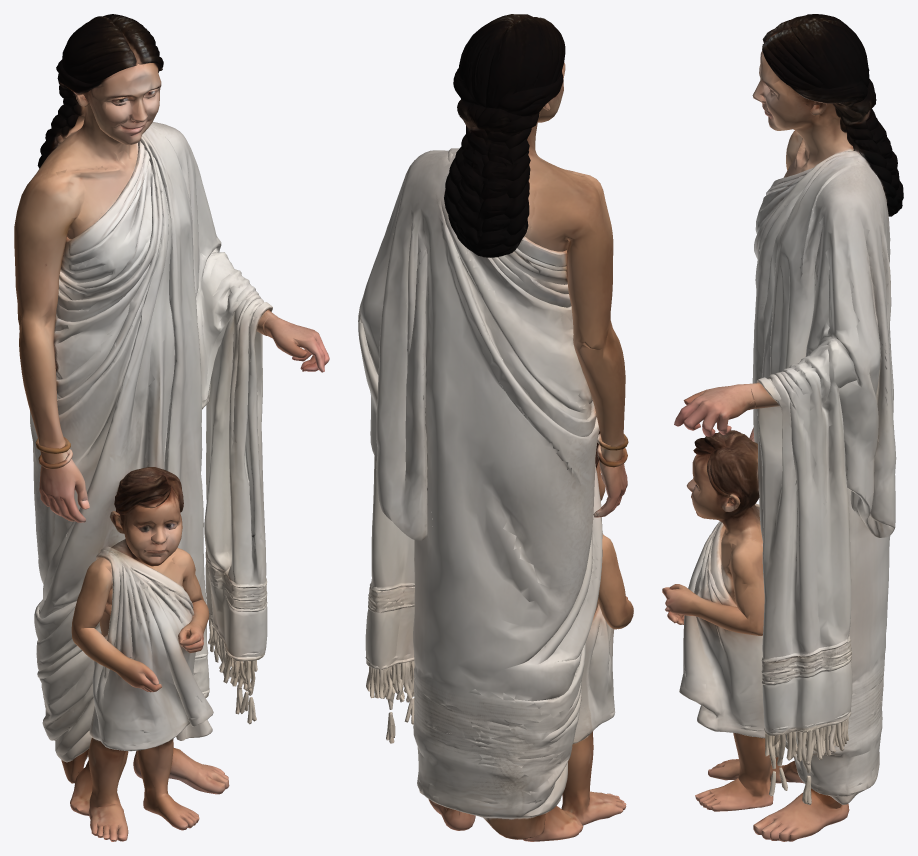
File: crowd_pregnant_woman_with_child_rodin_source.glb
3 renders of one model, left to right at view 1: azimuth 30°, elevation 25°; view 2: azimuth 150°, elevation 25°; view 3: azimuth 270°, elevation 25°, orthographic. The views are drawn at different scales.
Parts seen in each view (by area): view 1: model; view 2: model; view 3: model.
Boxes of the visible parts, x1,y1,x2,y2 form: model: (14, 14, 329, 841); model: (358, 14, 633, 841); model: (662, 14, 903, 841).
Bounding box in the file's own units: 0.6515 × 1.9 × 0.5347.
1 material, 1 textured.
